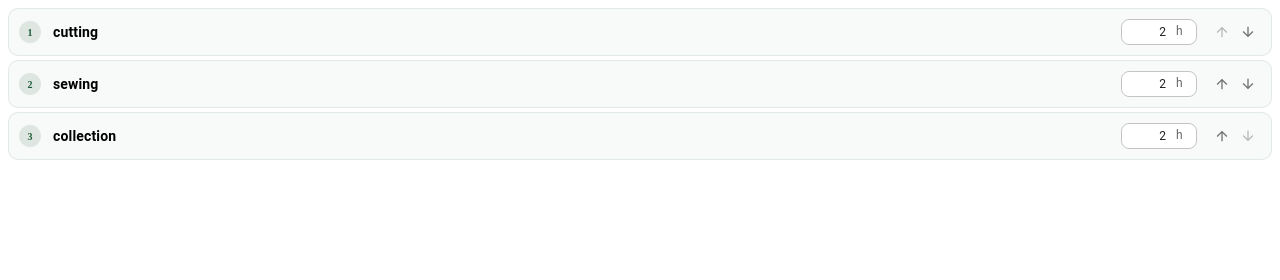
StageSequenceEditor hours › refuses more than 240 hours for a stage
The width and height of the screenshot is (1280, 280).
Replace the text in the field named "Hours for cutting" with "300" at [1146, 32], box top-left (1121, 19), bottom-right (1172, 45)
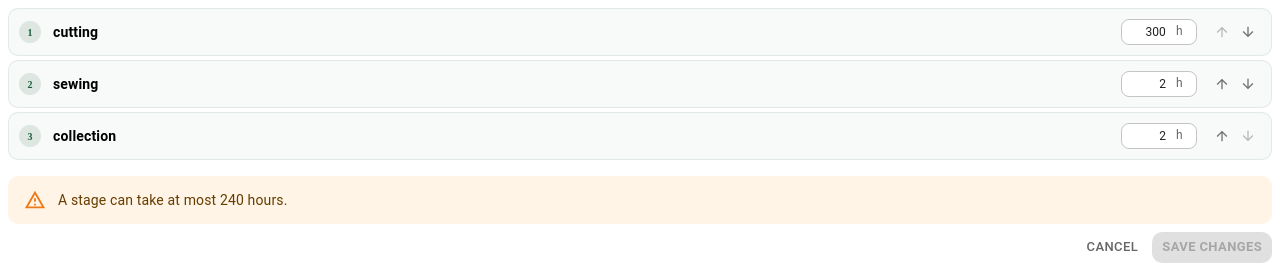
Check: the text "A stage can take at most 240 hours." is shown, box top-left (58, 192), bottom-right (288, 208)
Check: the button "Save changes" is disabled, box top-left (1152, 232), bottom-right (1272, 263)
